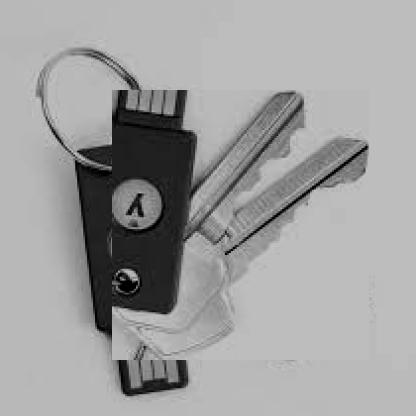key: (112, 91, 369, 360)
